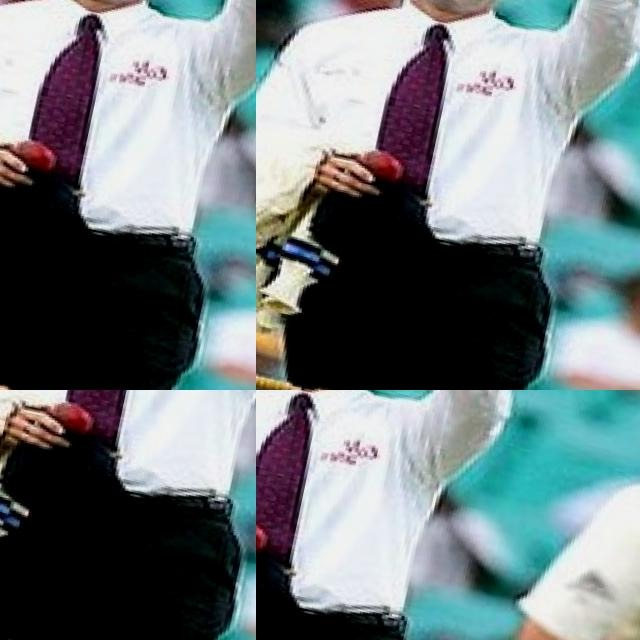Out: (0, 390, 256, 640)
Six: (0, 0, 113, 390)
